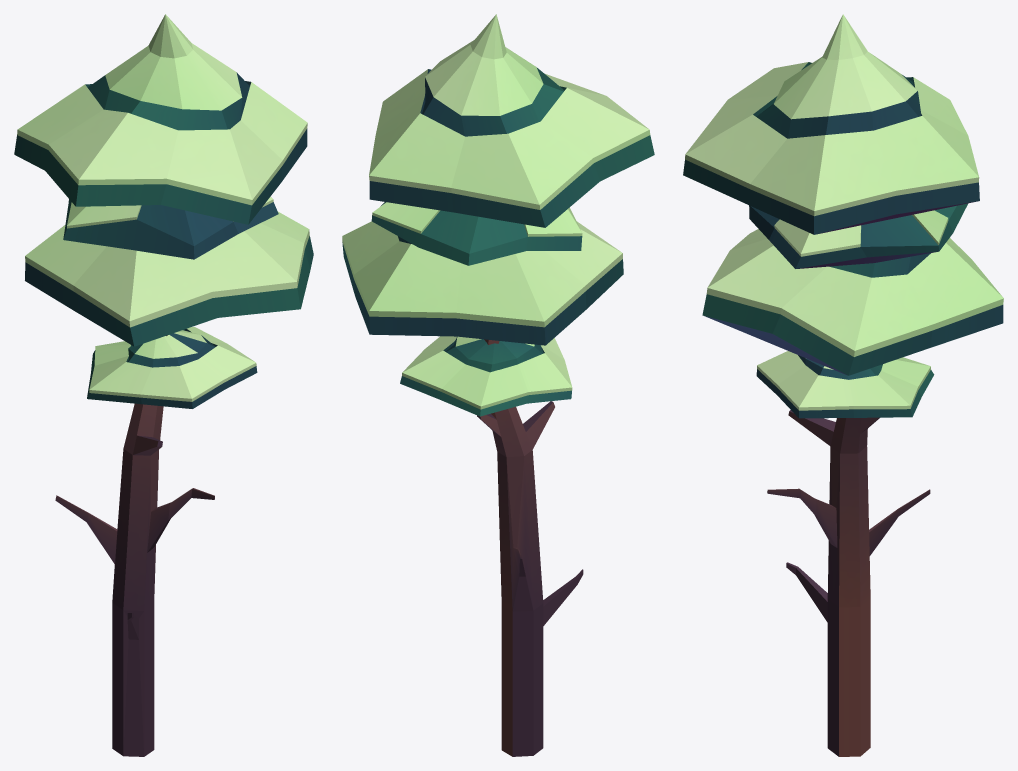
File: Tree_Snow01.fbx
The picture shows the model from 3 angles, left to right: view 1: azimuth 30°, elevation 25°; view 2: azimuth 150°, elevation 25°; view 3: azimuth 270°, elevation 25°; orthographic projection. The views are drawn at different scales.
Visible parts, largest first — view 1: TolSnowTree1; view 2: TolSnowTree1; view 3: TolSnowTree1.
Part boxes in pixels (x1,y1,x2,y2): TolSnowTree1: (14,14,313,756); TolSnowTree1: (342,14,654,756); TolSnowTree1: (683,14,1003,756).
Size of the model in its own units: 254 by 645 by 250.
